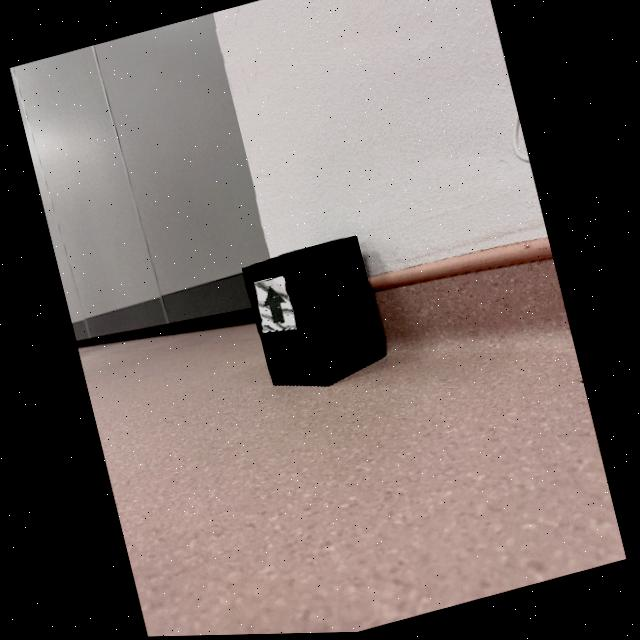UP: (264, 287, 287, 325)
